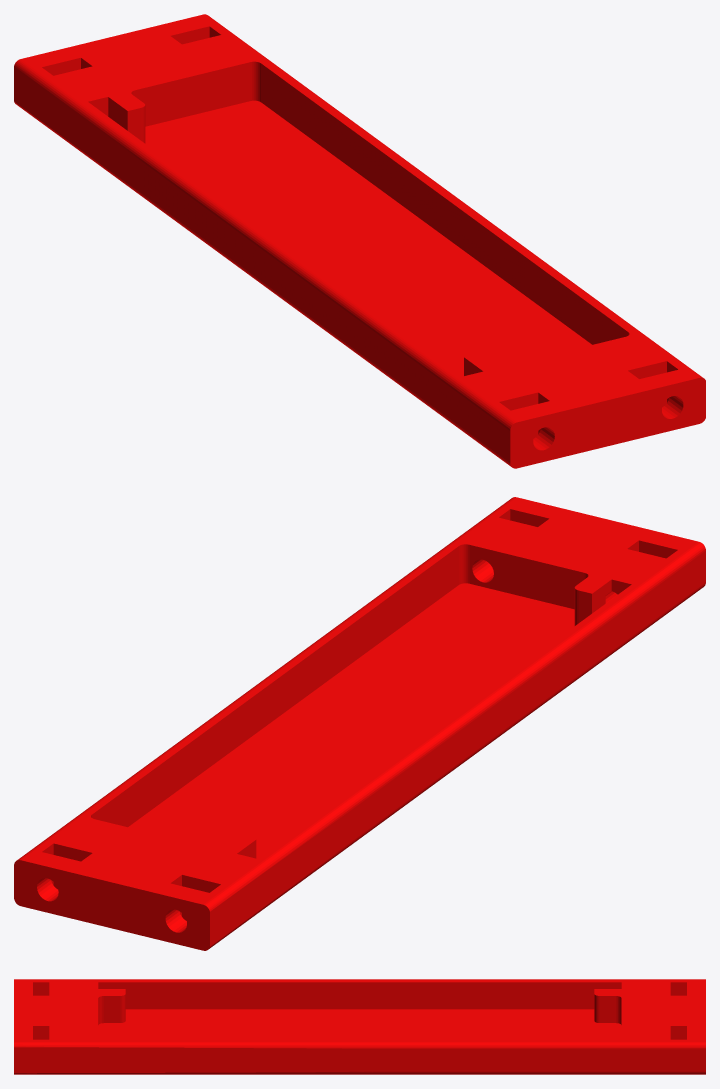
The model's file is V1.02_Chassis_Right_Side.dae.
3 views of the same model, one above another, from view 1: azimuth 30°, elevation 25°; view 2: azimuth 150°, elevation 25°; view 3: azimuth 270°, elevation 25° (orthographic). The views are drawn at different scales.
Visible parts, largest first — view 1: V1.02_Chassis_Right_Side; view 2: V1.02_Chassis_Right_Side; view 3: V1.02_Chassis_Right_Side.
Boxes of the visible parts, x1=… form: V1.02_Chassis_Right_Side: x1=14, y1=14, x2=705, y2=468; V1.02_Chassis_Right_Side: x1=14, y1=497, x2=705, y2=950; V1.02_Chassis_Right_Side: x1=14, y1=979, x2=705, y2=1074.
Size of the model in its own units: 29 by 127 by 6.5.
